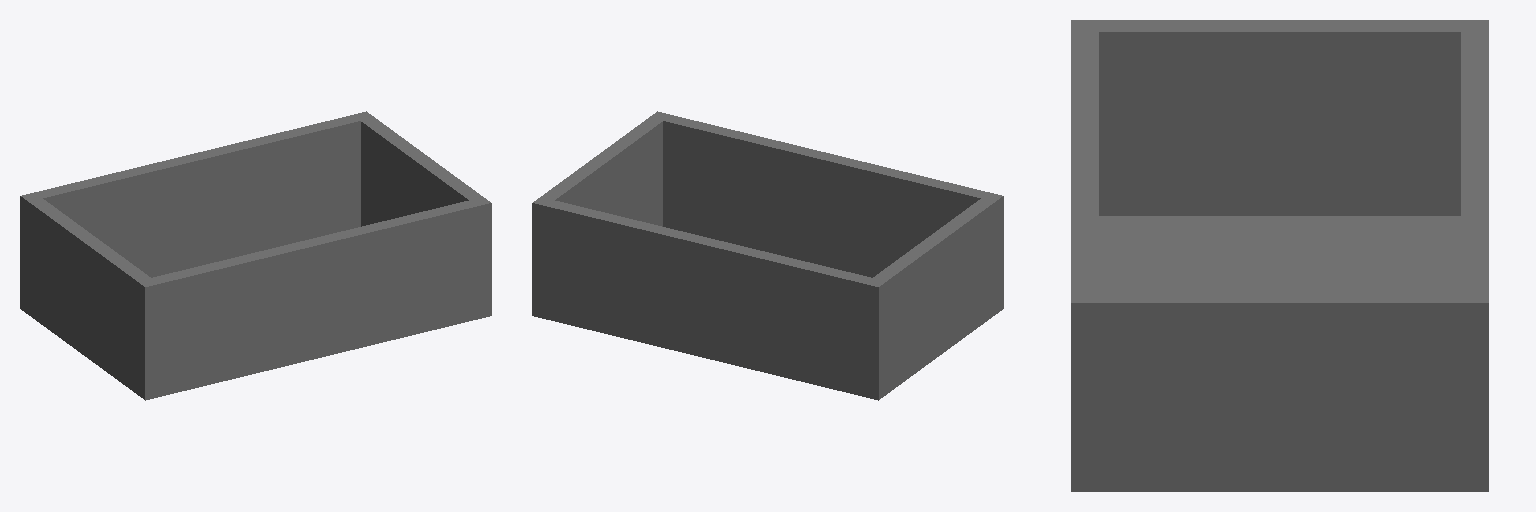
URDF robot description (bin_tote):
<?xml version="1.0" ?>
<!-- Bin tote generated from generic_tote.xacro, with origin shifted to geometric center.
     Original origin was at bottom-right corner; shifted by (-0.3048, -0.1905, -0.09525). -->
<robot name="bin_tote">
  <link name="bin_tote_link">
    <!-- Bottom -->
    <visual>
      <geometry>
        <box size="0.6096 0.381 0.005"/>
      </geometry>
      <origin xyz="0 0 -0.09275"/>
      <material name="tote_color">
        <color rgba="0.5 0.5 0.5 1.0"/>
      </material>
    </visual>
    <!-- Back wall (-X) -->
    <visual>
      <geometry>
        <box size="0.025 0.381 0.1905"/>
      </geometry>
      <origin xyz="-0.2923 0 0"/>
      <material name="tote_color"/>
    </visual>
    <collision>
      <geometry>
        <box size="0.025 0.381 0.1905"/>
      </geometry>
      <origin xyz="-0.2923 0 0"/>
    </collision>
    <!-- Front wall (+X) -->
    <visual>
      <geometry>
        <box size="0.025 0.381 0.1905"/>
      </geometry>
      <origin xyz="0.2923 0 0"/>
      <material name="tote_color"/>
    </visual>
    <collision>
      <geometry>
        <box size="0.025 0.381 0.1905"/>
      </geometry>
      <origin xyz="0.2923 0 0"/>
    </collision>
    <!-- Right wall (-Y) -->
    <visual>
      <geometry>
        <box size="0.6096 0.025 0.1905"/>
      </geometry>
      <origin xyz="0 -0.178 0"/>
      <material name="tote_color"/>
    </visual>
    <collision>
      <geometry>
        <box size="0.6096 0.025 0.1905"/>
      </geometry>
      <origin xyz="0 -0.178 0"/>
    </collision>
    <!-- Left wall (+Y) -->
    <visual>
      <geometry>
        <box size="0.6096 0.025 0.1905"/>
      </geometry>
      <origin xyz="0 0.178 0"/>
      <material name="tote_color"/>
    </visual>
    <collision>
      <geometry>
        <box size="0.6096 0.025 0.1905"/>
      </geometry>
      <origin xyz="0 0.178 0"/>
    </collision>
    <inertial>
      <mass value="1"/>
      <inertia ixx="1.0" ixy="0.0" ixz="0.0" iyy="1.0" iyz="0.0" izz="1.0"/>
    </inertial>
  </link>
</robot>

--- Render facts (derived) ---
3 views of the same robot in one strip: view 1: azimuth 30°, elevation 25°; view 2: azimuth 150°, elevation 25°; view 3: azimuth 270°, elevation 25° (orthographic).
Model bin_tote with 1 links and 0 joints (none), rooted at bin_tote_link, posed every joint at zero.
Visible links, largest first — view 1: bin_tote_link; view 2: bin_tote_link; view 3: bin_tote_link.
Link boxes in pixels (x1,y1,x2,y2): bin_tote_link: (20, 111, 491, 400); bin_tote_link: (532, 111, 1003, 400); bin_tote_link: (1071, 20, 1488, 491).
Size in the robot's own frame: 0.6096 by 0.381 by 0.1905 metres.
Geometry: primitives only (box / cylinder / sphere), no mesh files.
